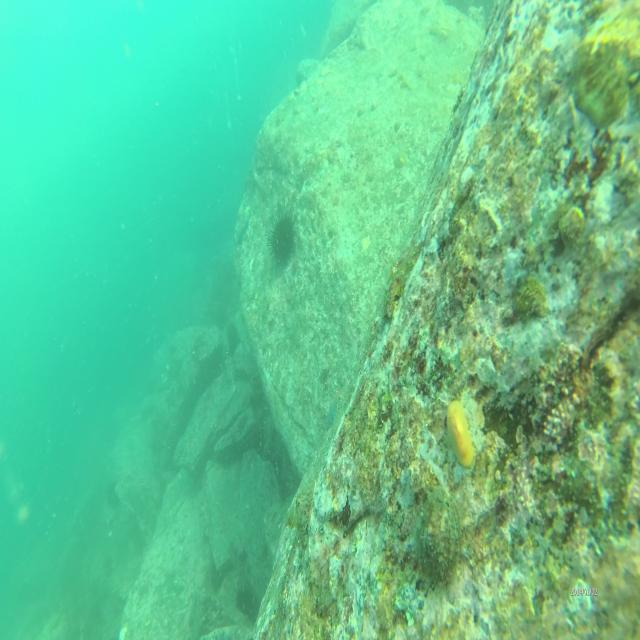echinus: (264, 212, 298, 269)
scallop: (416, 484, 464, 590), (294, 476, 316, 539)
